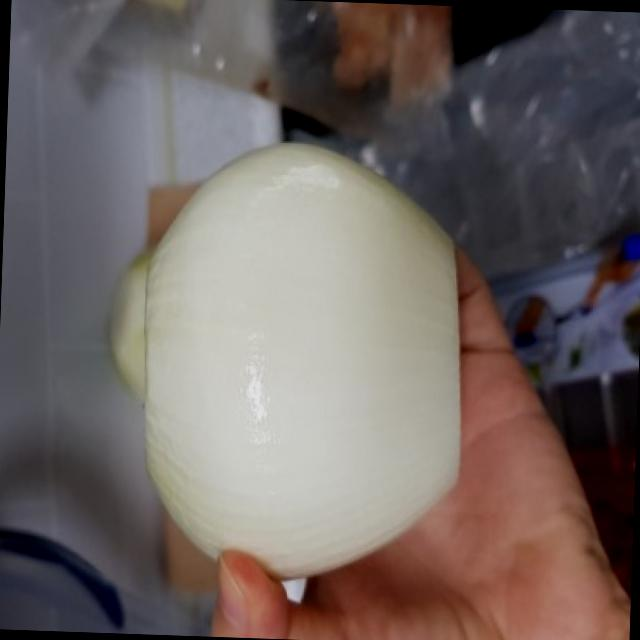onion: (120, 92, 512, 595)
